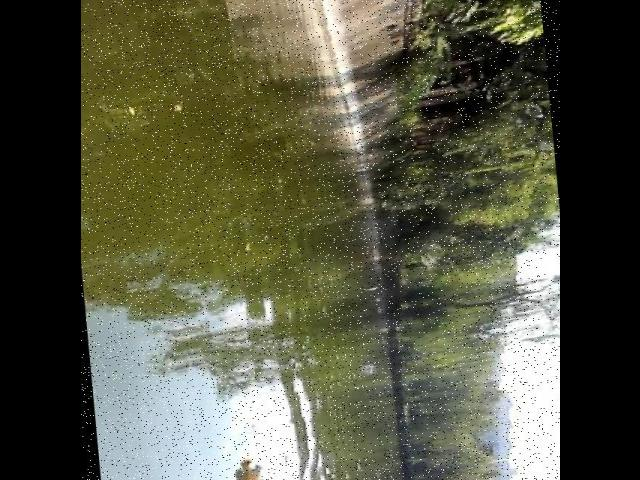Bottle: (236, 444, 274, 480)
